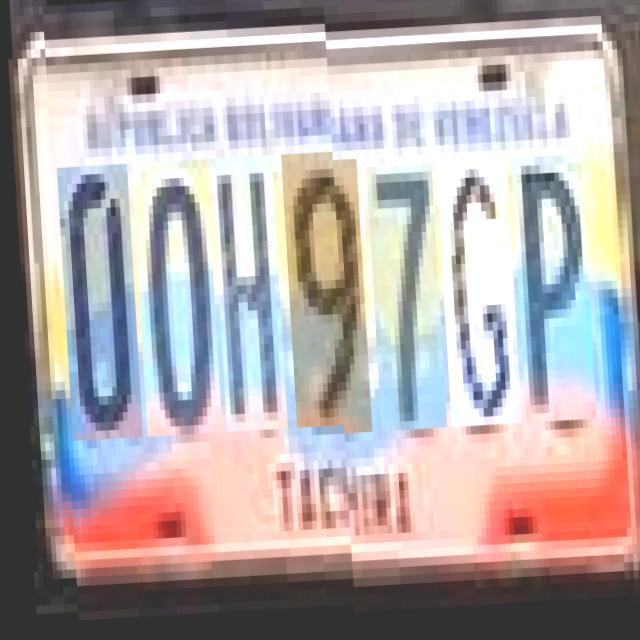0: (55, 165, 138, 441)
7: (363, 160, 441, 428)
9: (279, 154, 366, 430)
G: (434, 156, 516, 424)
H: (209, 158, 282, 434)
O: (130, 162, 217, 438)
P: (508, 152, 590, 420)
